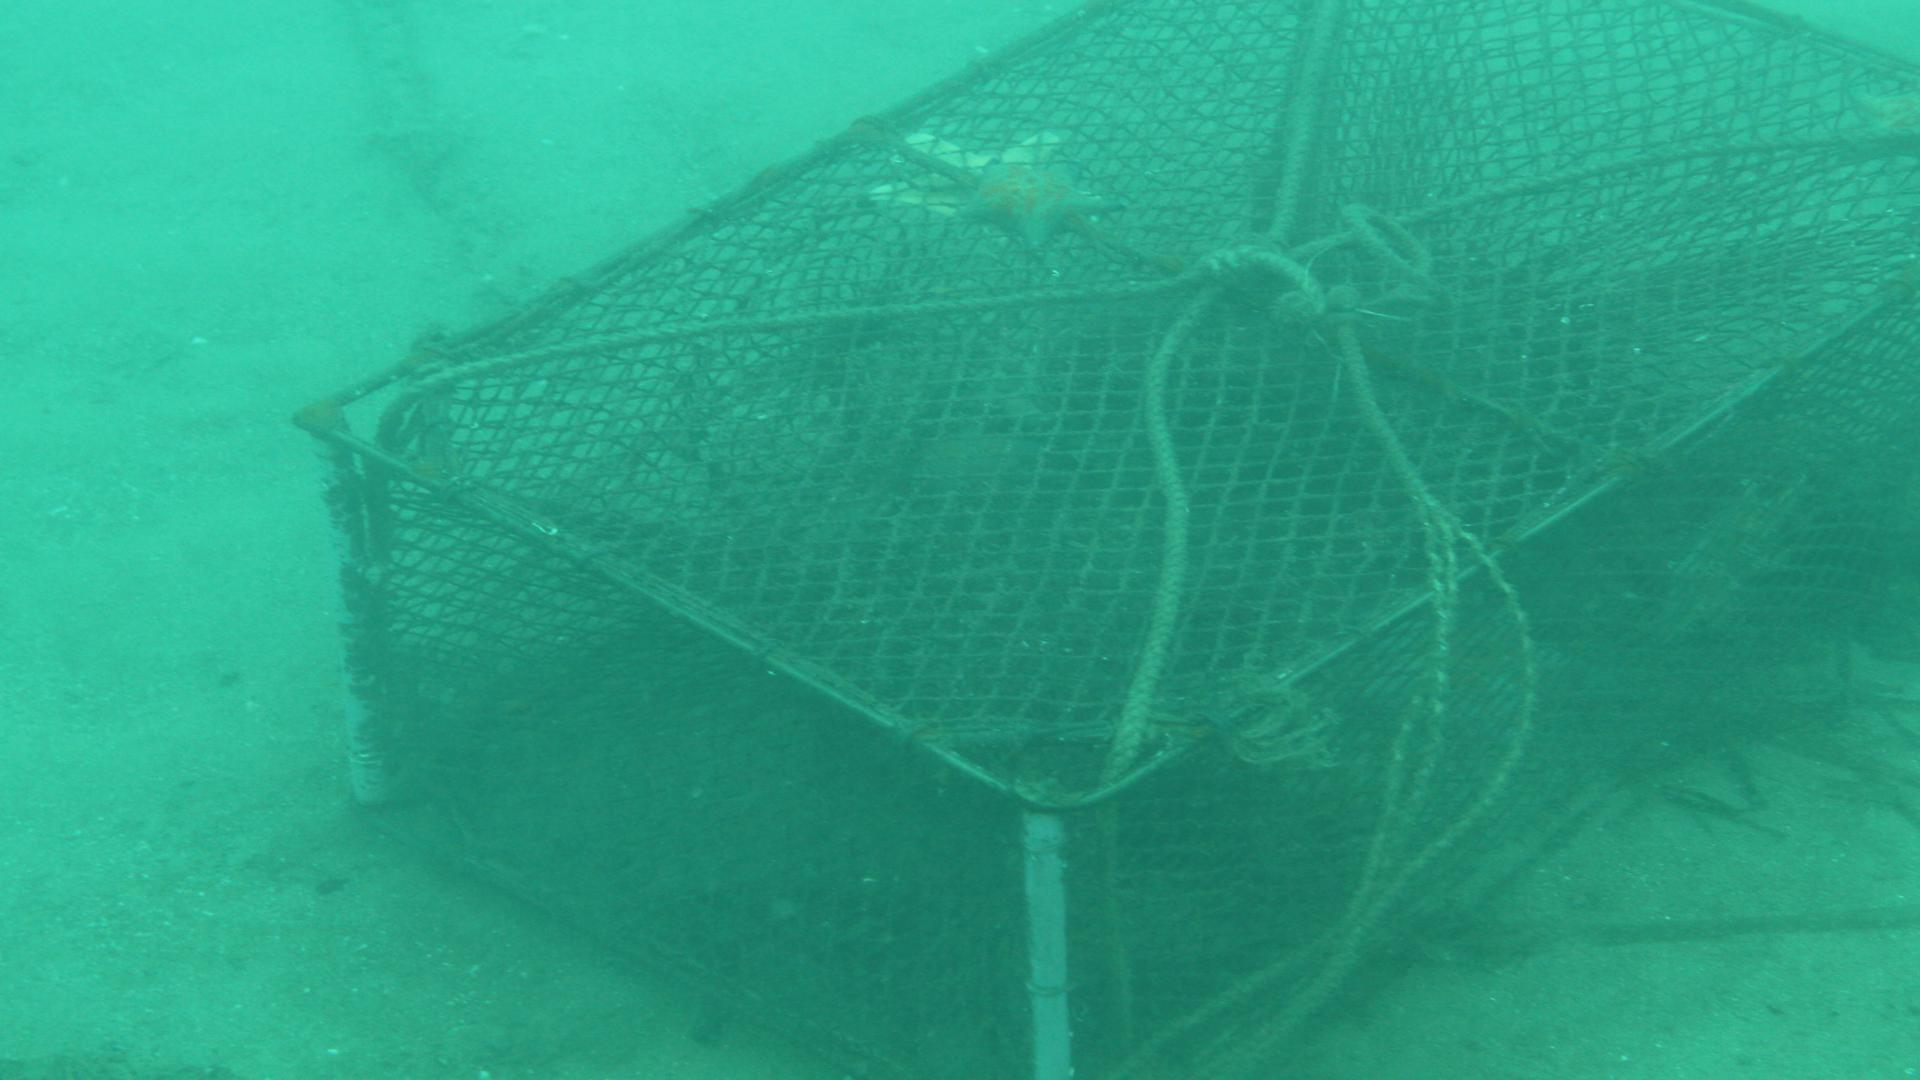rectangular fish trap: (287, 5, 1920, 1080)
